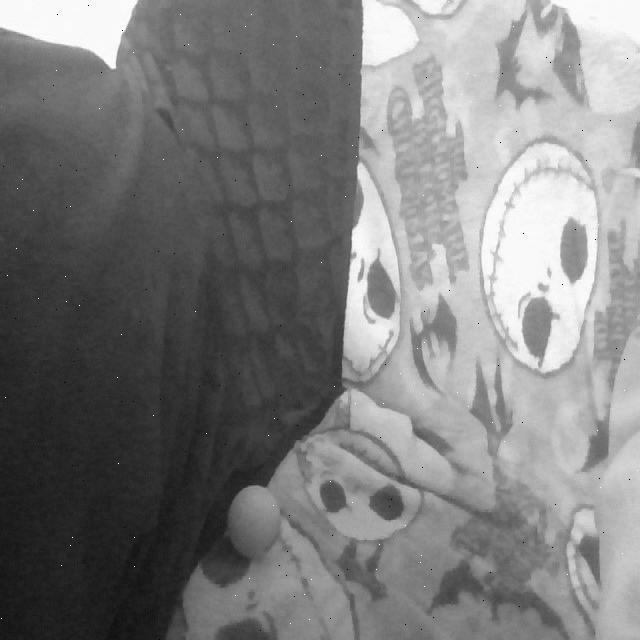ping-pong-ball: (229, 486, 280, 562)
